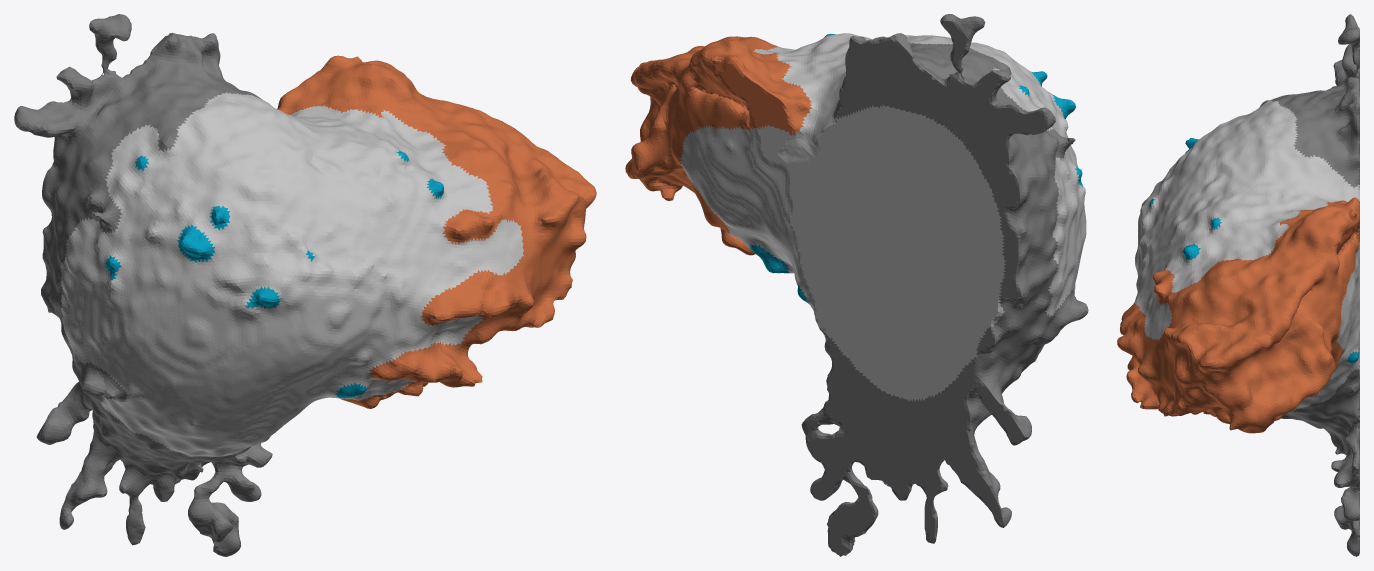
The picture shows the model from 3 angles, left to right: view 1: azimuth 30°, elevation 25°; view 2: azimuth 150°, elevation 25°; view 3: azimuth 270°, elevation 25°; orthographic projection. The views are drawn at different scales.
Bounding box in the file's own units: 138 × 152 × 69.1.
